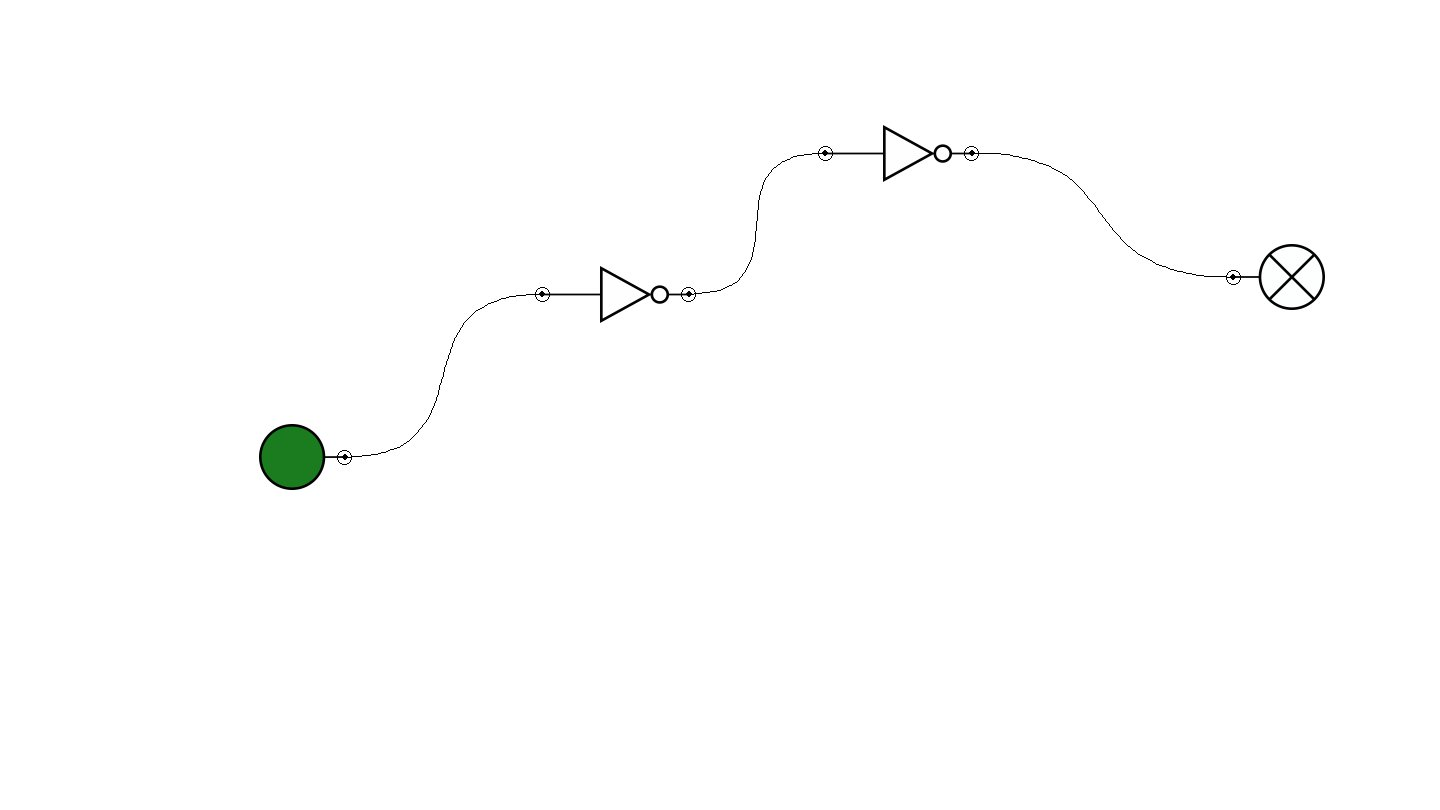bulb: (1226, 244, 1325, 310)
not: (535, 266, 696, 323), (818, 125, 979, 182)
switch_True: (259, 424, 352, 490)
